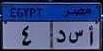4: (20, 23, 32, 47)
alif: (87, 24, 95, 47)
daal: (56, 28, 66, 45)
seen: (68, 28, 84, 46)
